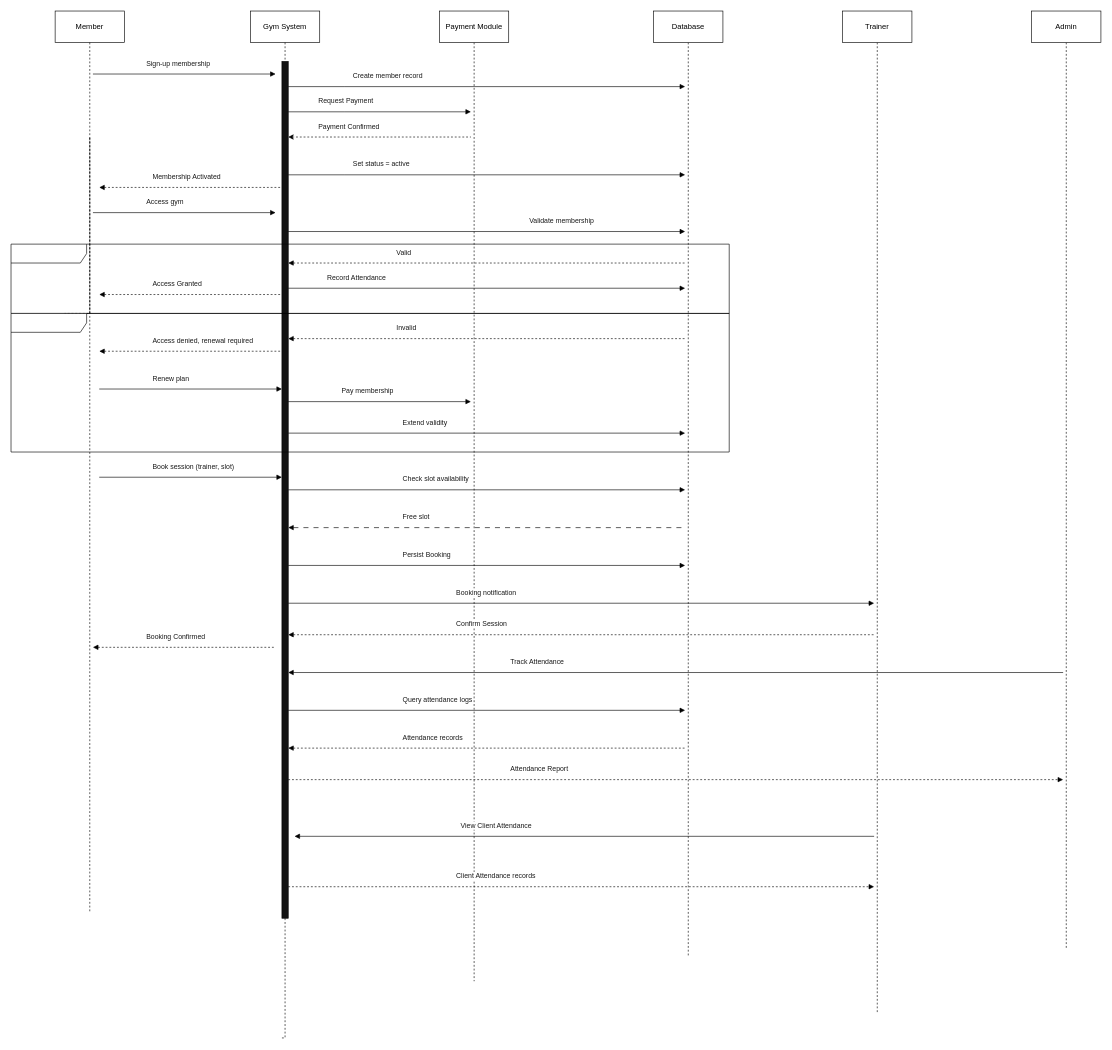
The diagram is 1112 pixels wide and 1050 high, and some of its shapes have lost their labels. The centre of each missing label's shape, as x and y in pixels:
"membership active" goes at point 369,278.
"membership expired" goes at point 369,382.
